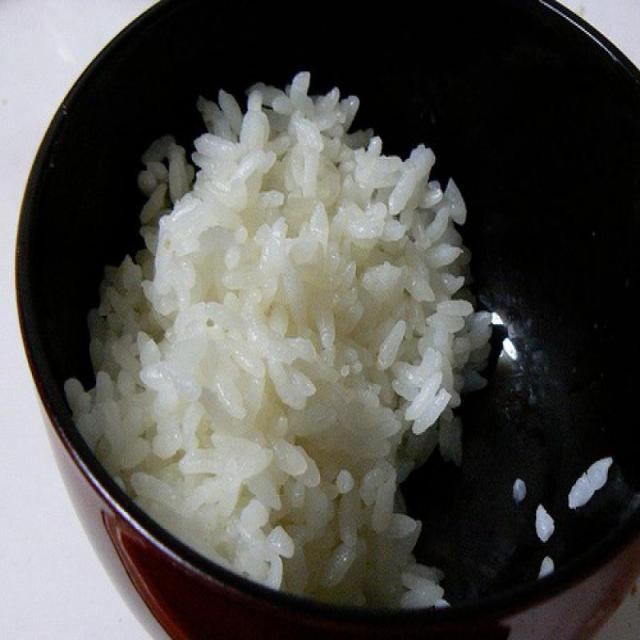nasi_putih: (64, 65, 494, 610)
